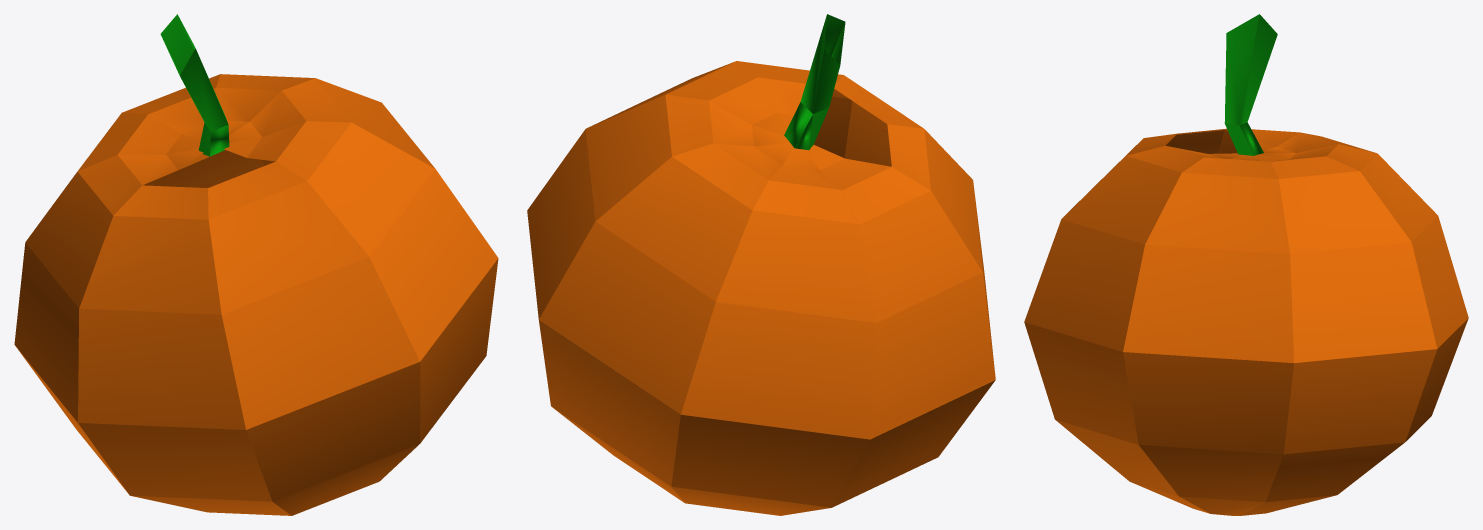
The model's file is pumkin.glb.
3 renders of one model, left to right at view 1: azimuth 30°, elevation 25°; view 2: azimuth 150°, elevation 25°; view 3: azimuth 270°, elevation 25°, orthographic. The views are drawn at different scales.
Visible parts, largest first — view 1: pumpkin4.001; view 2: pumpkin4.001; view 3: pumpkin4.001.
Boxes of the visible parts, x1=… form: pumpkin4.001: x1=14, y1=14, x2=498, y2=515; pumpkin4.001: x1=527, y1=14, x2=995, y2=515; pumpkin4.001: x1=1024, y1=14, x2=1468, y2=515.
Size of the model in its own units: 1 by 1.15 by 1.03.
